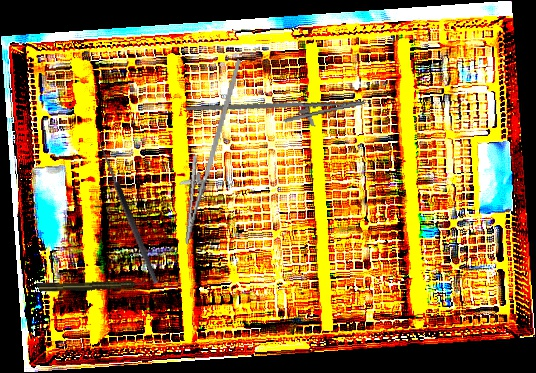Handpiece: (37, 278, 147, 293)
Hook Surgical: (88, 139, 161, 288)
Needle Holder: (169, 53, 243, 248), (185, 78, 368, 147)
